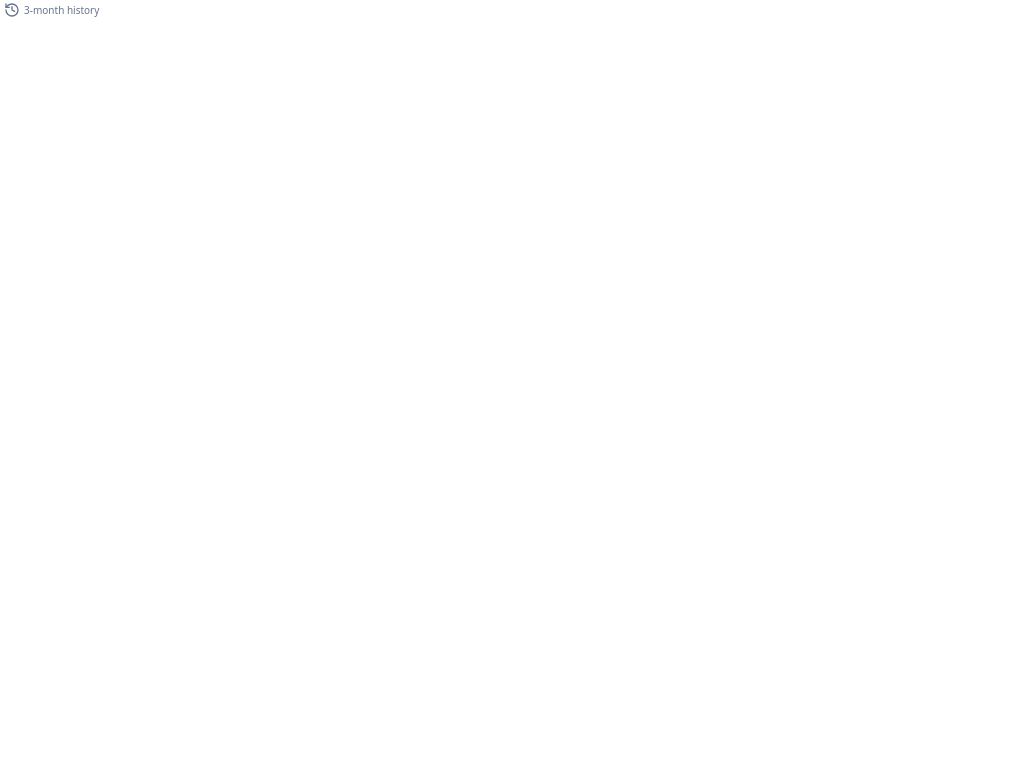
Scenario: handles empty history and disables navigation
This screenshot has width=1024, height=768.
Click the button "3-month history". click: x=52, y=10
box: [0,0,103,20]
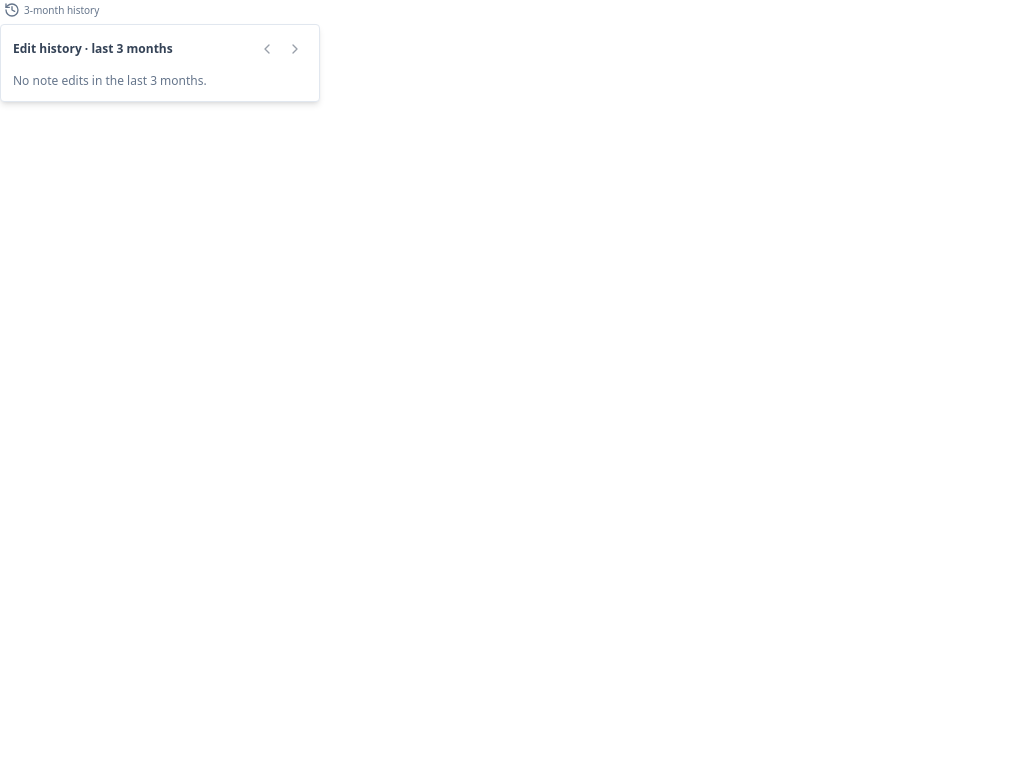
Now the text "No note edits in the last 3 months." is shown, box [13,72,207,89]
Now the button named "Older note" is disabled, box [255,37,279,61]
